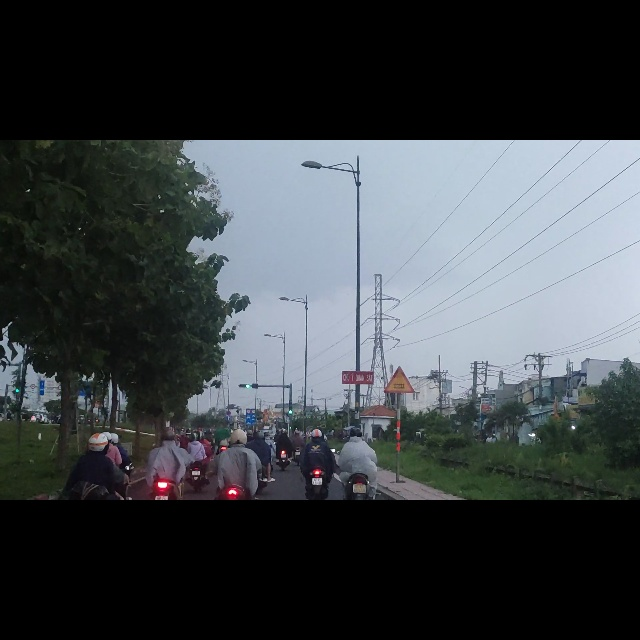bien_chi_dan: (382, 402, 416, 451)
